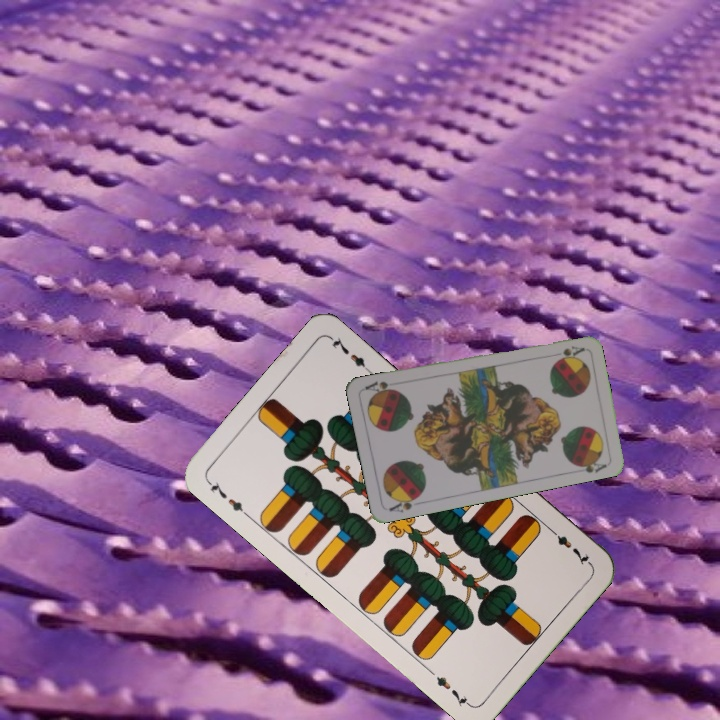E7: (545, 524, 594, 568), (203, 476, 252, 520)
SA: (385, 491, 423, 515), (559, 342, 586, 358)
